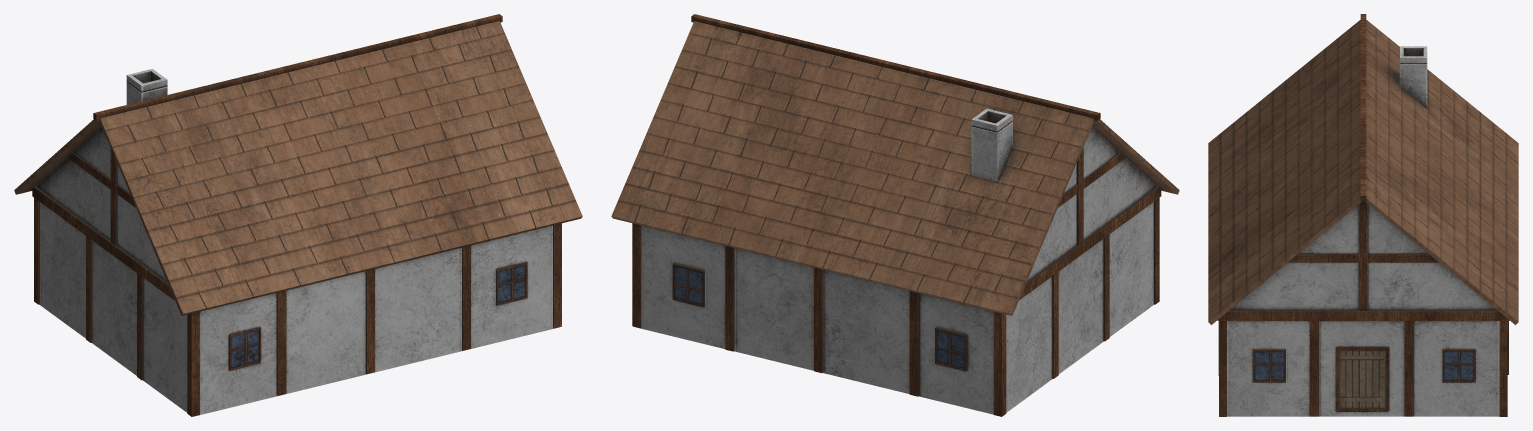
Rendered from medieval_building_lowpoly_1.obj.
3 views of the same model, side by side, from view 1: azimuth 30°, elevation 25°; view 2: azimuth 150°, elevation 25°; view 3: azimuth 270°, elevation 25° (orthographic). The views are drawn at different scales.
Visible parts, largest first — view 1: Cube_Cube.092; view 2: Cube_Cube.092; view 3: Cube_Cube.092.
Boxes of the visible parts, x1,y1,x2,y2 form: Cube_Cube.092: (14,14,582,416); Cube_Cube.092: (611,14,1179,416); Cube_Cube.092: (1208,14,1518,416).
Size of the model in its own units: 12.18 by 7.17 by 8.78.
1 material, 1 textured.
